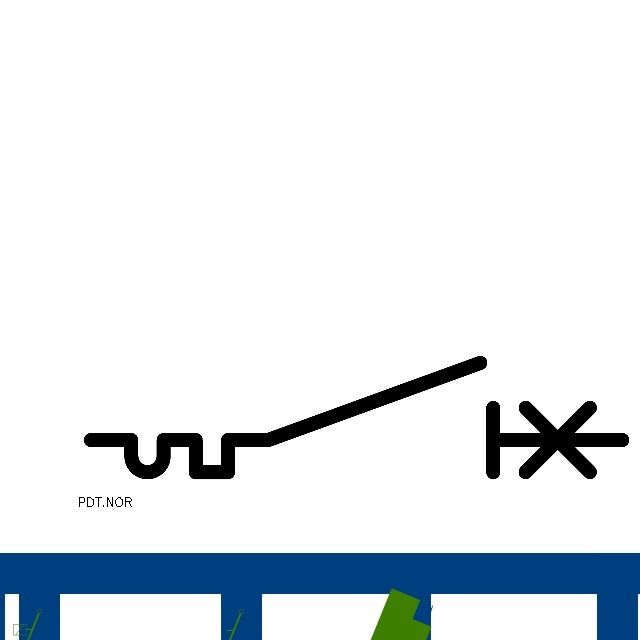interruptor_termomagnetico: (77, 349, 636, 486)
